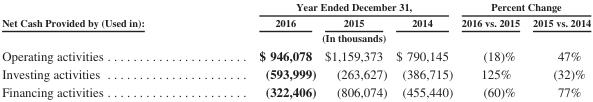table: (1, 0, 590, 98)
table column: (1, 0, 201, 98), (201, 0, 319, 98), (319, 0, 390, 98), (456, 0, 525, 98), (390, 0, 456, 98), (525, 0, 590, 98)
table column header: (1, 0, 590, 45)
table row: (1, 45, 590, 64), (1, 64, 590, 82), (1, 14, 590, 30), (1, 82, 590, 98), (1, 30, 590, 45), (1, 0, 590, 14)
table spanning cell: (1, 0, 201, 45), (201, 30, 456, 45), (201, 0, 456, 14), (456, 14, 525, 45), (525, 14, 590, 45), (456, 0, 590, 14)
